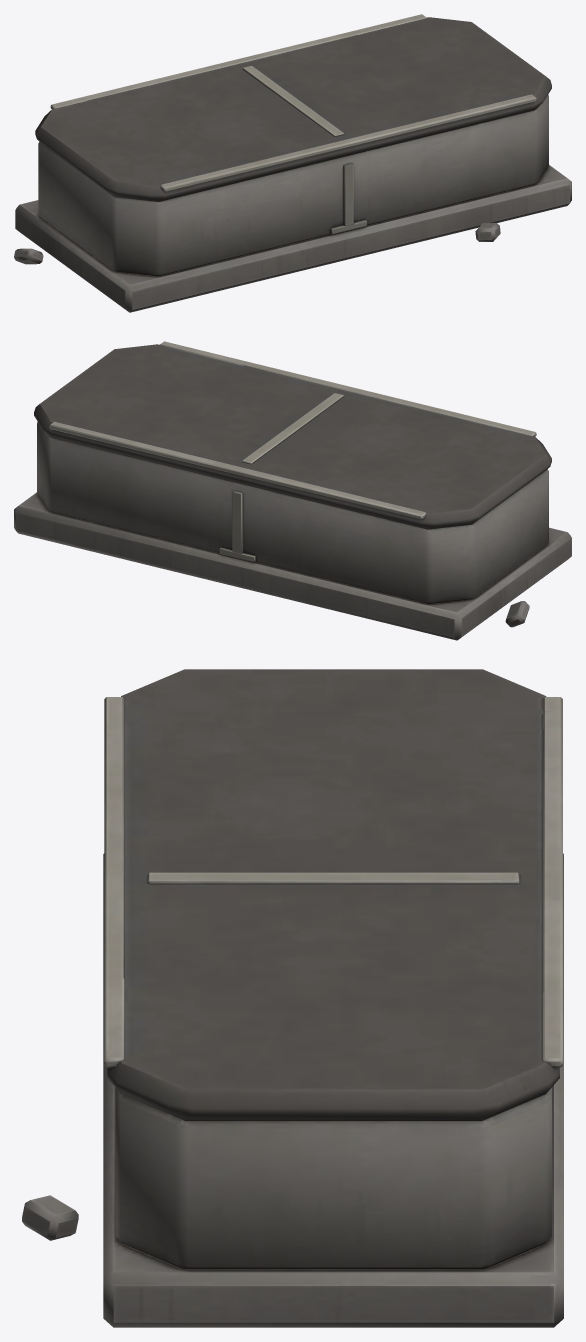
Rendered from hour_stone.glb.
3 views of the same model, one above another, from view 1: azimuth 30°, elevation 25°; view 2: azimuth 150°, elevation 25°; view 3: azimuth 270°, elevation 25° (orthographic). The views are drawn at different scales.
Visible parts, largest first — view 1: hour_stone_body; view 2: hour_stone_body; view 3: hour_stone_body.
Part boxes in pixels (x1,y1,x2,y2): hour_stone_body: [14, 14, 571, 312]; hour_stone_body: [14, 341, 571, 640]; hour_stone_body: [22, 669, 563, 1327].
Bounding box in the file's own units: 5.42 × 1.32 × 2.66.
1 material, 1 textured.
